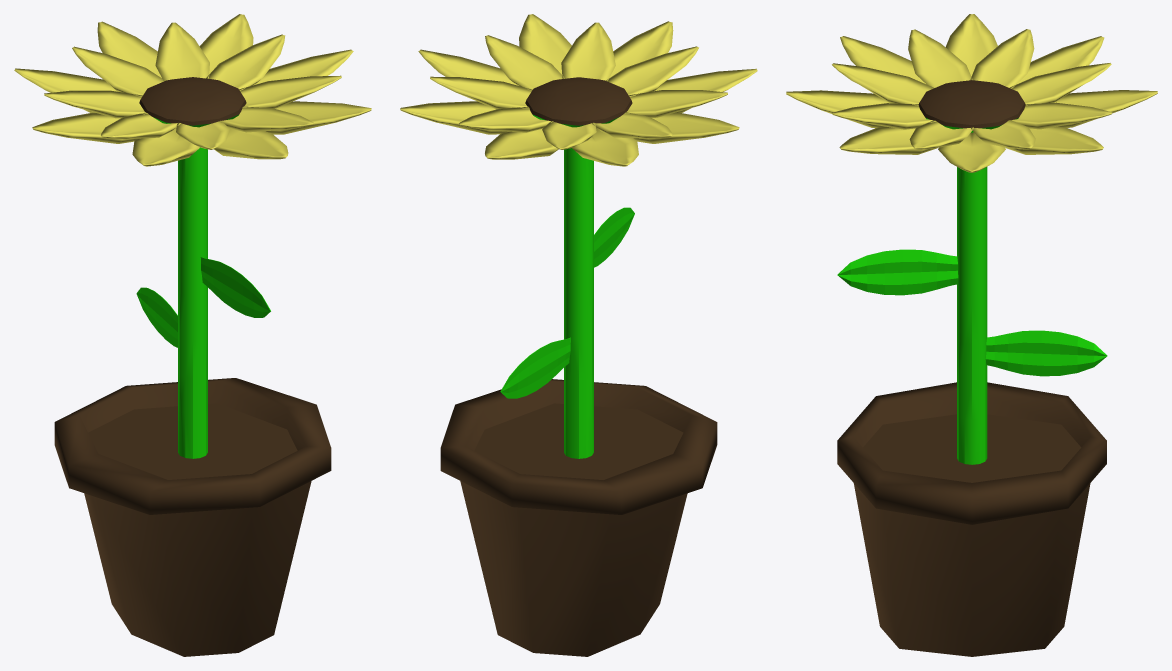
File: SonenBlumne.fbx
The picture shows the model from 3 angles, left to right: view 1: azimuth 30°, elevation 25°; view 2: azimuth 150°, elevation 25°; view 3: azimuth 270°, elevation 25°; orthographic projection.
Visible parts, largest first — view 1: Topf, Zylinder, Würfel.001, Blatt.012, Blatt.013, Blatt.011, Blatt.014, Blatt.010, Blatt.003, Blatt.004, Blatt.001, Blatt.007 (+8 smaller); view 2: Topf, Zylinder, Würfel, Blatt.015, Blatt.014, Blatt.016, Blatt.013, Blatt.009, Blatt.006, Blatt.007, Blatt.001, Blatt.003 (+8 smaller); view 3: Topf, Zylinder, Würfel, Würfel.001, Blatt.010, Blatt.009, Blatt.016, Blatt.011, Blatt.015, Blatt.012, Blatt.001, Blatt.006 (+8 smaller).
Part boxes in pixels (bbox=[...]): Topf: bbox=[54, 378, 331, 656]; Zylinder: bbox=[139, 77, 246, 458]; Würfel.001: bbox=[200, 257, 270, 317]; Blatt.012: bbox=[155, 22, 209, 81]; Blatt.013: bbox=[206, 34, 285, 90]; Blatt.011: bbox=[72, 46, 165, 96]; Blatt.014: bbox=[239, 75, 341, 108]; Blatt.010: bbox=[44, 90, 147, 118]; Blatt.003: bbox=[97, 21, 161, 77]; Blatt.004: bbox=[199, 14, 253, 73]; Blatt.001: bbox=[32, 113, 137, 143]; Blatt.007: bbox=[214, 128, 288, 159]; Topf: bbox=[440, 379, 717, 656]; Zylinder: bbox=[525, 77, 632, 458]; Würfel: bbox=[500, 337, 570, 398]; Blatt.015: bbox=[561, 22, 615, 81]; Blatt.014: bbox=[485, 35, 564, 91]; Blatt.016: bbox=[606, 46, 698, 96]; Blatt.013: bbox=[430, 76, 532, 109]; Blatt.009: bbox=[624, 90, 727, 117]; Blatt.006: bbox=[519, 14, 571, 74]; Blatt.007: bbox=[609, 21, 673, 77]; Blatt.001: bbox=[633, 113, 739, 143]; Blatt.003: bbox=[485, 129, 558, 159]; Topf: bbox=[837, 382, 1106, 656]; Zylinder: bbox=[918, 80, 1025, 464]; Würfel: bbox=[985, 330, 1107, 376]; Würfel.001: bbox=[837, 249, 958, 295]; Blatt.010: bbox=[970, 29, 1034, 88]; Blatt.009: bbox=[908, 29, 972, 88]; Blatt.016: bbox=[832, 63, 934, 105]; Blatt.011: bbox=[1009, 63, 1111, 105]; Blatt.015: bbox=[832, 103, 936, 129]; Blatt.012: bbox=[1008, 102, 1112, 129]; Blatt.001: bbox=[945, 14, 997, 76]; Blatt.006: bbox=[839, 126, 937, 154].
Size of the model in its own units: 418 by 668 by 418.
